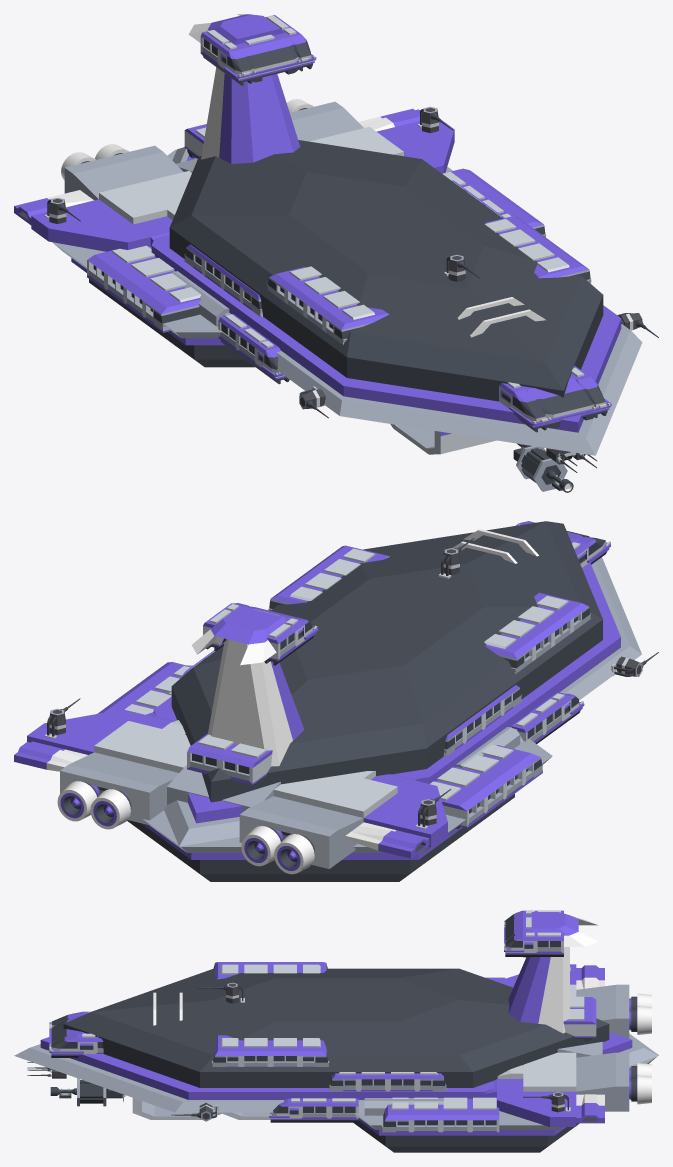
File: croiseur_lourd_2.glb
3 renders of one model, top to bottom at view 1: azimuth 30°, elevation 25°; view 2: azimuth 150°, elevation 25°; view 3: azimuth 270°, elevation 25°, orthographic. The views are drawn at different scales.
Parts seen in each view (by area): view 1: mergedBlocks(Clone); view 2: mergedBlocks(Clone); view 3: mergedBlocks(Clone).
Boxes of the visible parts, x1,y1,x2,y2 form: mergedBlocks(Clone): (14, 14, 658, 492); mergedBlocks(Clone): (14, 521, 658, 881); mergedBlocks(Clone): (14, 910, 658, 1152).
Bounding box in the file's own units: 12.31 × 7.2 × 21.99.
Materials: 1 (1 with a texture image).
